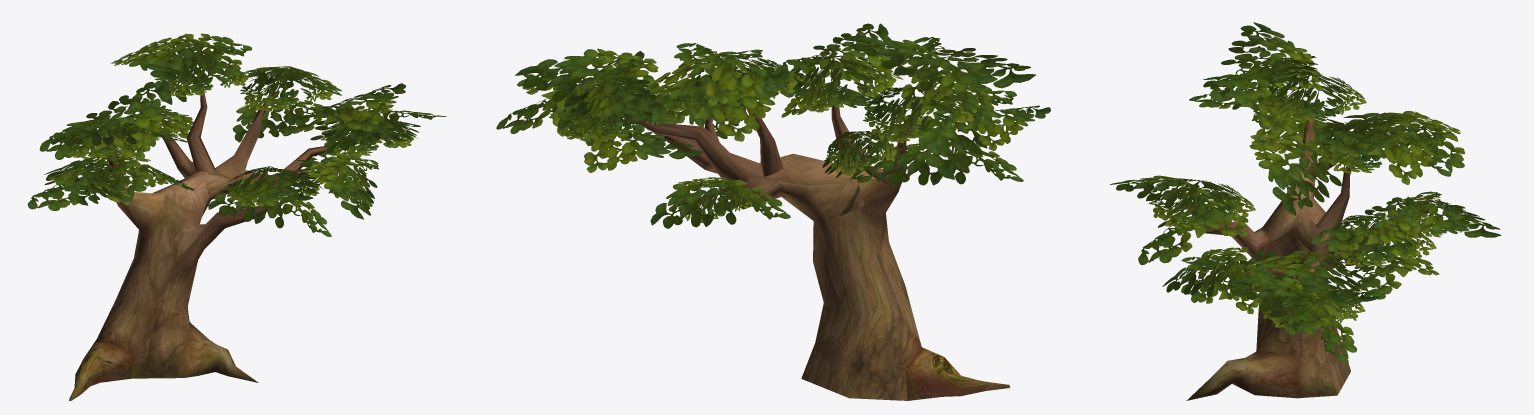
File: environment_Tree_Green_001_a.FBX
The picture shows the model from 3 angles, left to right: view 1: azimuth 30°, elevation 25°; view 2: azimuth 150°, elevation 25°; view 3: azimuth 270°, elevation 25°; orthographic projection. The views are drawn at different scales.
Visible parts, largest first — view 1: environment_Tree_Green_001_a, environment_Tree_Green_001_b; view 2: environment_Tree_Green_001_a, environment_Tree_Green_001_b; view 3: environment_Tree_Green_001_a, environment_Tree_Green_001_b.
Part boxes in pixels (box(x1,y1,x2,y2)): environment_Tree_Green_001_a: box(27, 33, 446, 236); environment_Tree_Green_001_b: box(69, 83, 336, 400); environment_Tree_Green_001_a: box(496, 23, 1050, 228); environment_Tree_Green_001_b: box(624, 73, 1010, 400); environment_Tree_Green_001_a: box(1109, 22, 1501, 363); environment_Tree_Green_001_b: box(1182, 91, 1438, 400).
Size of the model in its own units: 1104 by 830 by 665.
Materials: 2 (2 with a texture image).
